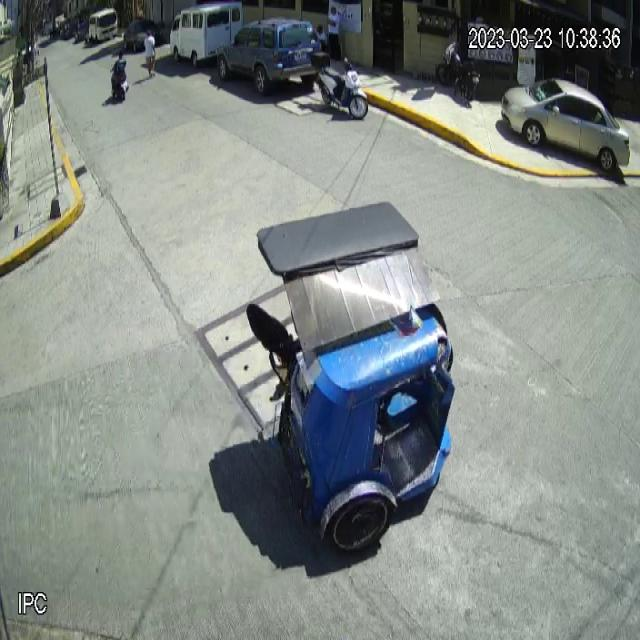Car: (500, 76, 632, 175), (216, 17, 322, 98)
Motorcycle: (311, 49, 371, 125)
Tricycle: (242, 192, 460, 557)
Van: (169, 2, 244, 68)
